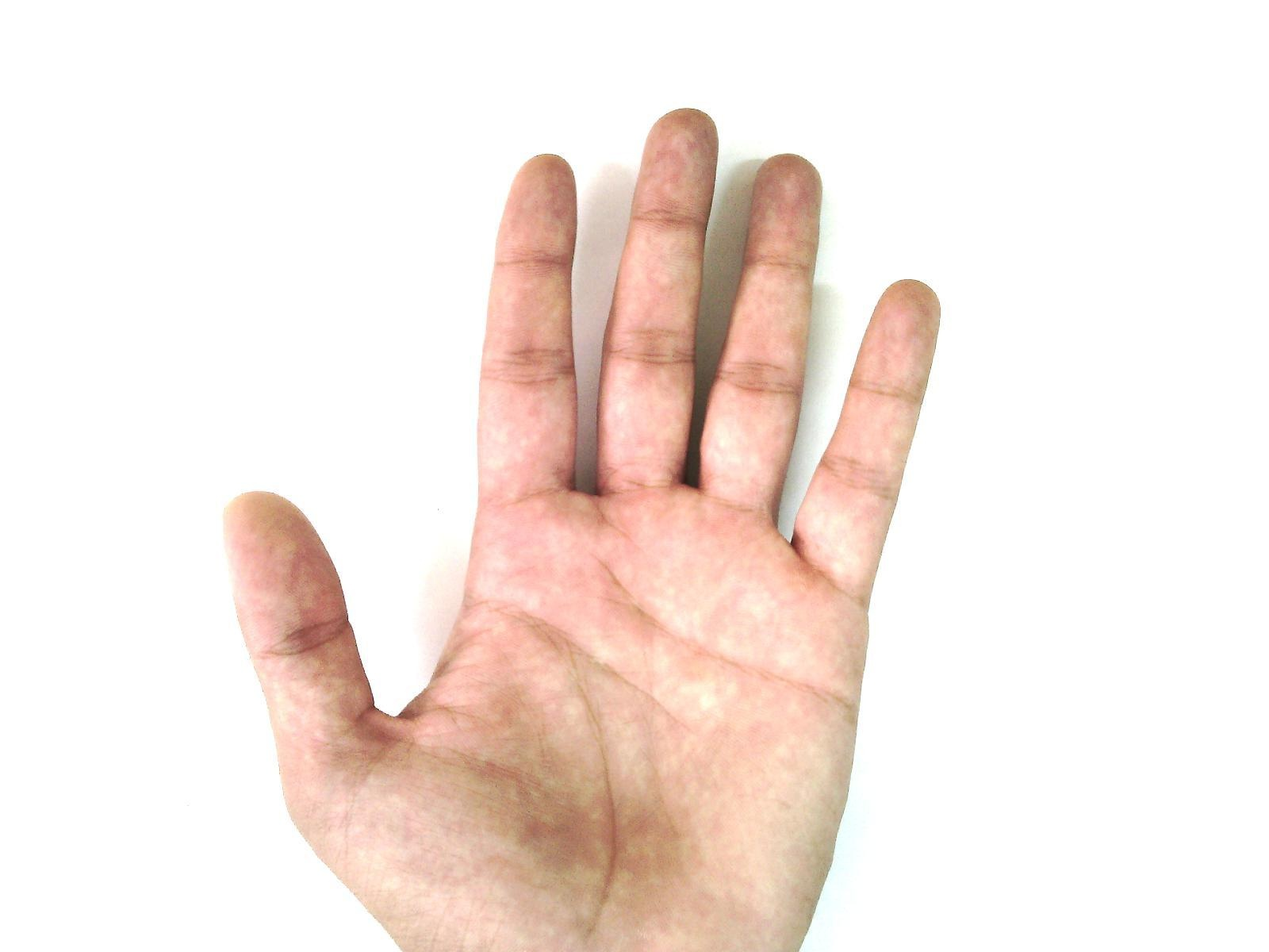open_palm: (220, 107, 945, 951)
